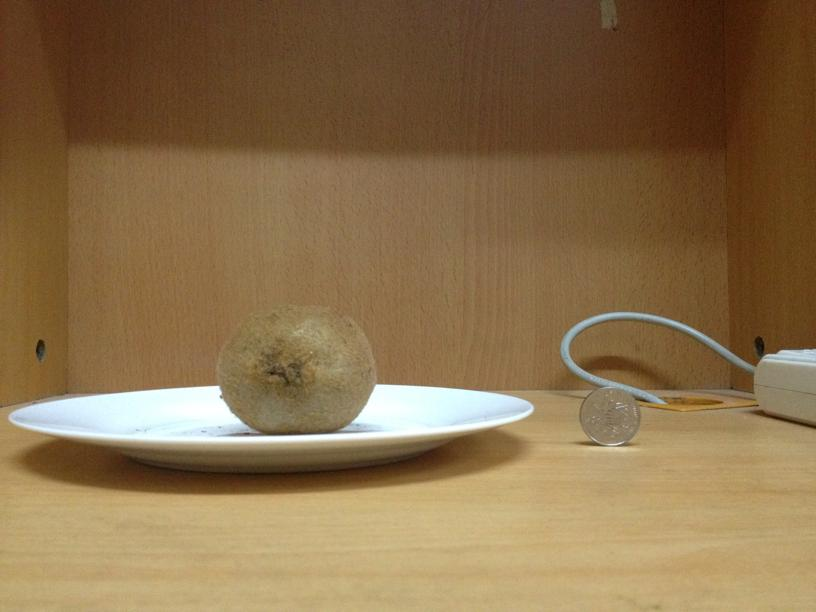coin: (577, 388, 642, 449)
qiwi: (214, 302, 376, 431)
